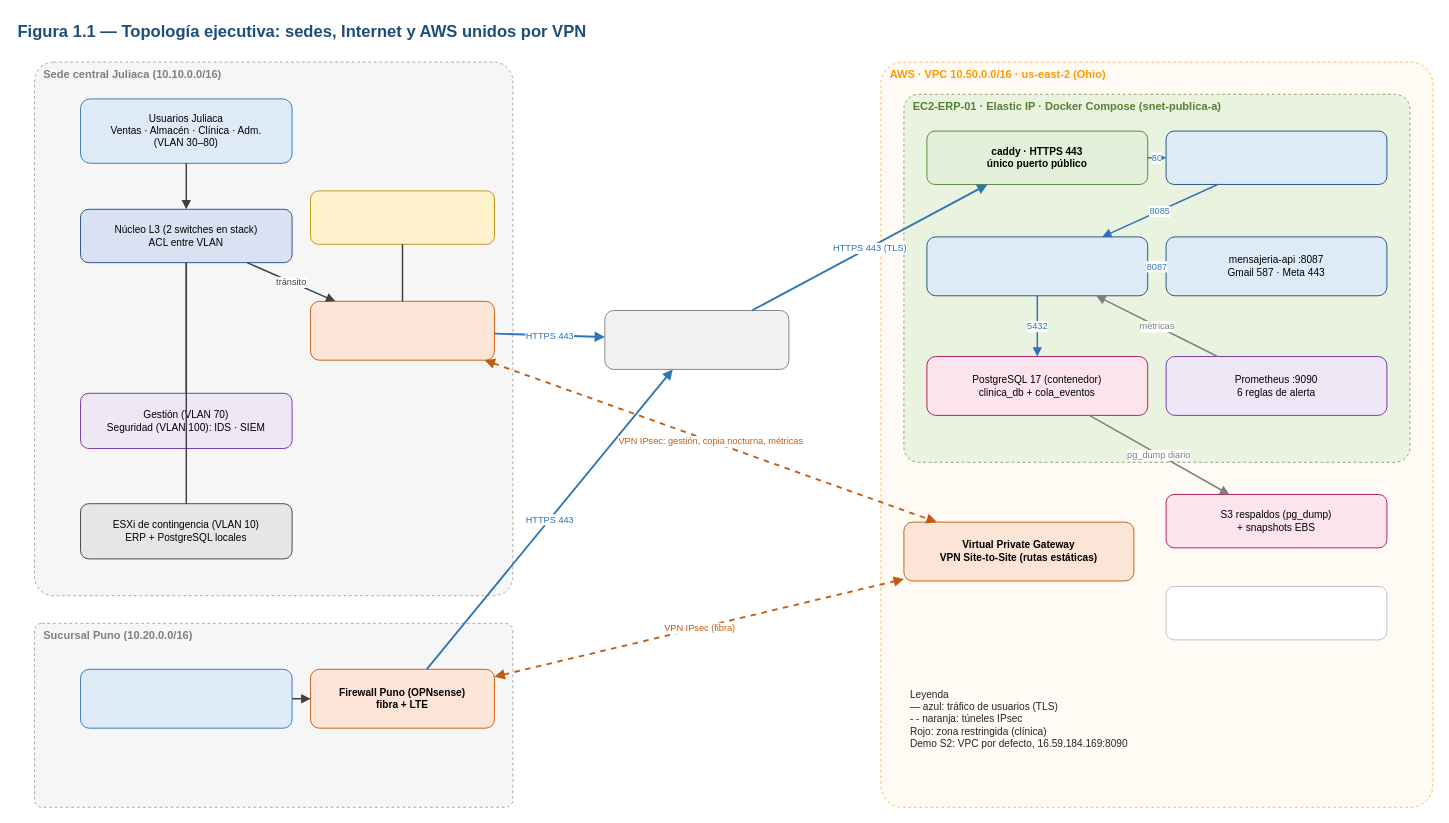
Image size: 1449x823. Some labels were removed from this diagram. Each missing label, with the centre of its shape:
backend Spring Boot :8085 /api · /ws-notifications: pixel 1037 266
DMZ (VLAN 20) honeypot · proxy de contingencia: pixel 402 217
Fase 2 (subredes reservadas) ALB + WAF · 2.ª EC2 · RDS Multi-AZ: pixel 1276 613
Firewall HA (OPNsense) IPS Suricata · VPN IPsec: pixel 402 330
frontend (Nginx) SPA + proxy /api: pixel 1276 157
Internet (ISP-A / ISP-B / Puno): pixel 696 339
Usuarios Puno VLAN 130–160 · invitados 190: pixel 186 698
